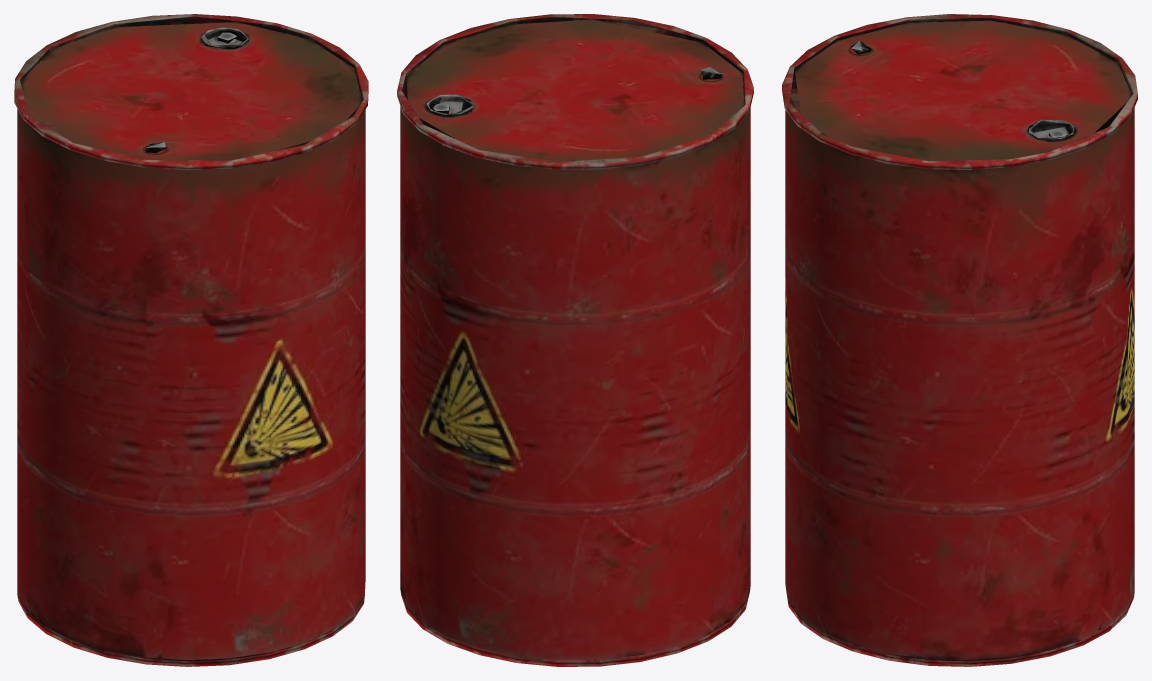
Rendered from Barrel_01.glb.
The picture shows the model from 3 angles, left to right: view 1: azimuth 30°, elevation 25°; view 2: azimuth 150°, elevation 25°; view 3: azimuth 270°, elevation 25°; orthographic projection.
Visible parts, largest first — view 1: Barrel_01; view 2: Barrel_01; view 3: Barrel_01.
Part boxes in pixels (x1,y1,x2,y2): Barrel_01: (14, 14, 368, 666); Barrel_01: (397, 14, 753, 666); Barrel_01: (782, 14, 1137, 666).
Bounding box in the file's own units: 0.5603 × 0.8789 × 0.5603.
Materials: 1 (1 with a texture image).
